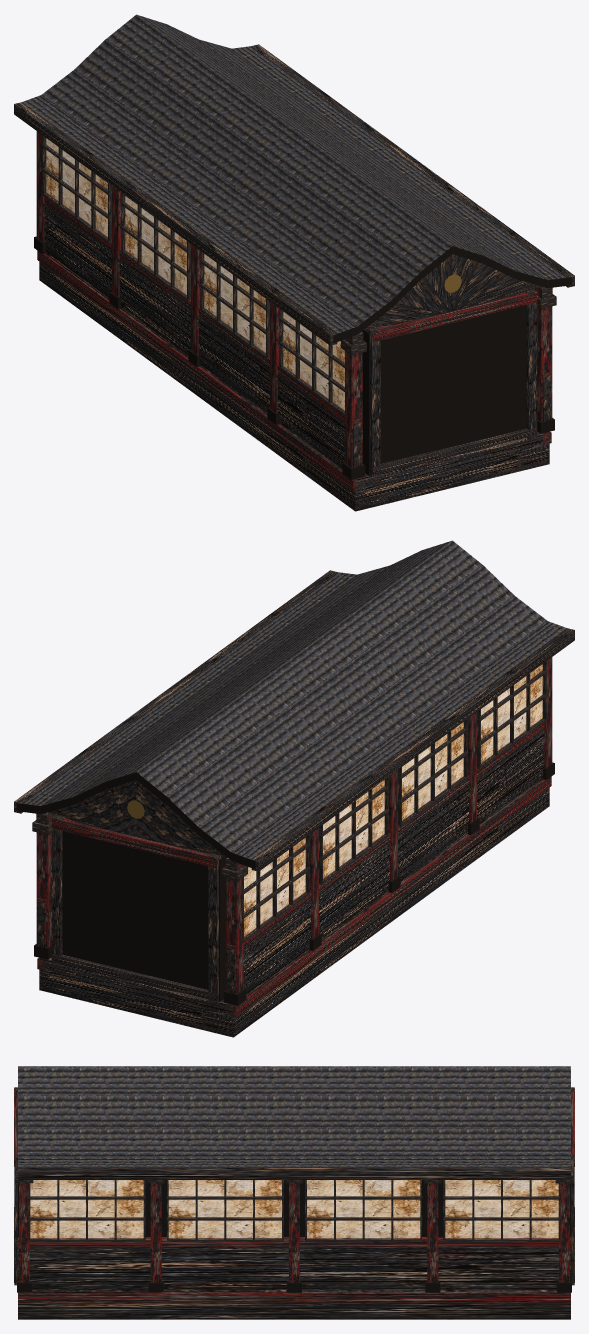
Rendered from nyanisyarud-hyakken-sky-corridor.glb.
The picture shows the model from 3 angles, top to bottom: view 1: azimuth 30°, elevation 25°; view 2: azimuth 150°, elevation 25°; view 3: azimuth 270°, elevation 25°; orthographic projection. The views are drawn at different scales.
Parts seen in each view (by area): view 1: Oni_Floating_Corridor_Exterior; view 2: Oni_Floating_Corridor_Exterior; view 3: Oni_Floating_Corridor_Exterior.
Boxes of the visible parts, x1,y1,x2,y2 form: Oni_Floating_Corridor_Exterior: (14,14,574,511); Oni_Floating_Corridor_Exterior: (14,540,574,1037); Oni_Floating_Corridor_Exterior: (14,1066,574,1319).
Bounding box in the file's own units: 4.47 × 4.22 × 10.14.
1 material, 1 textured.
